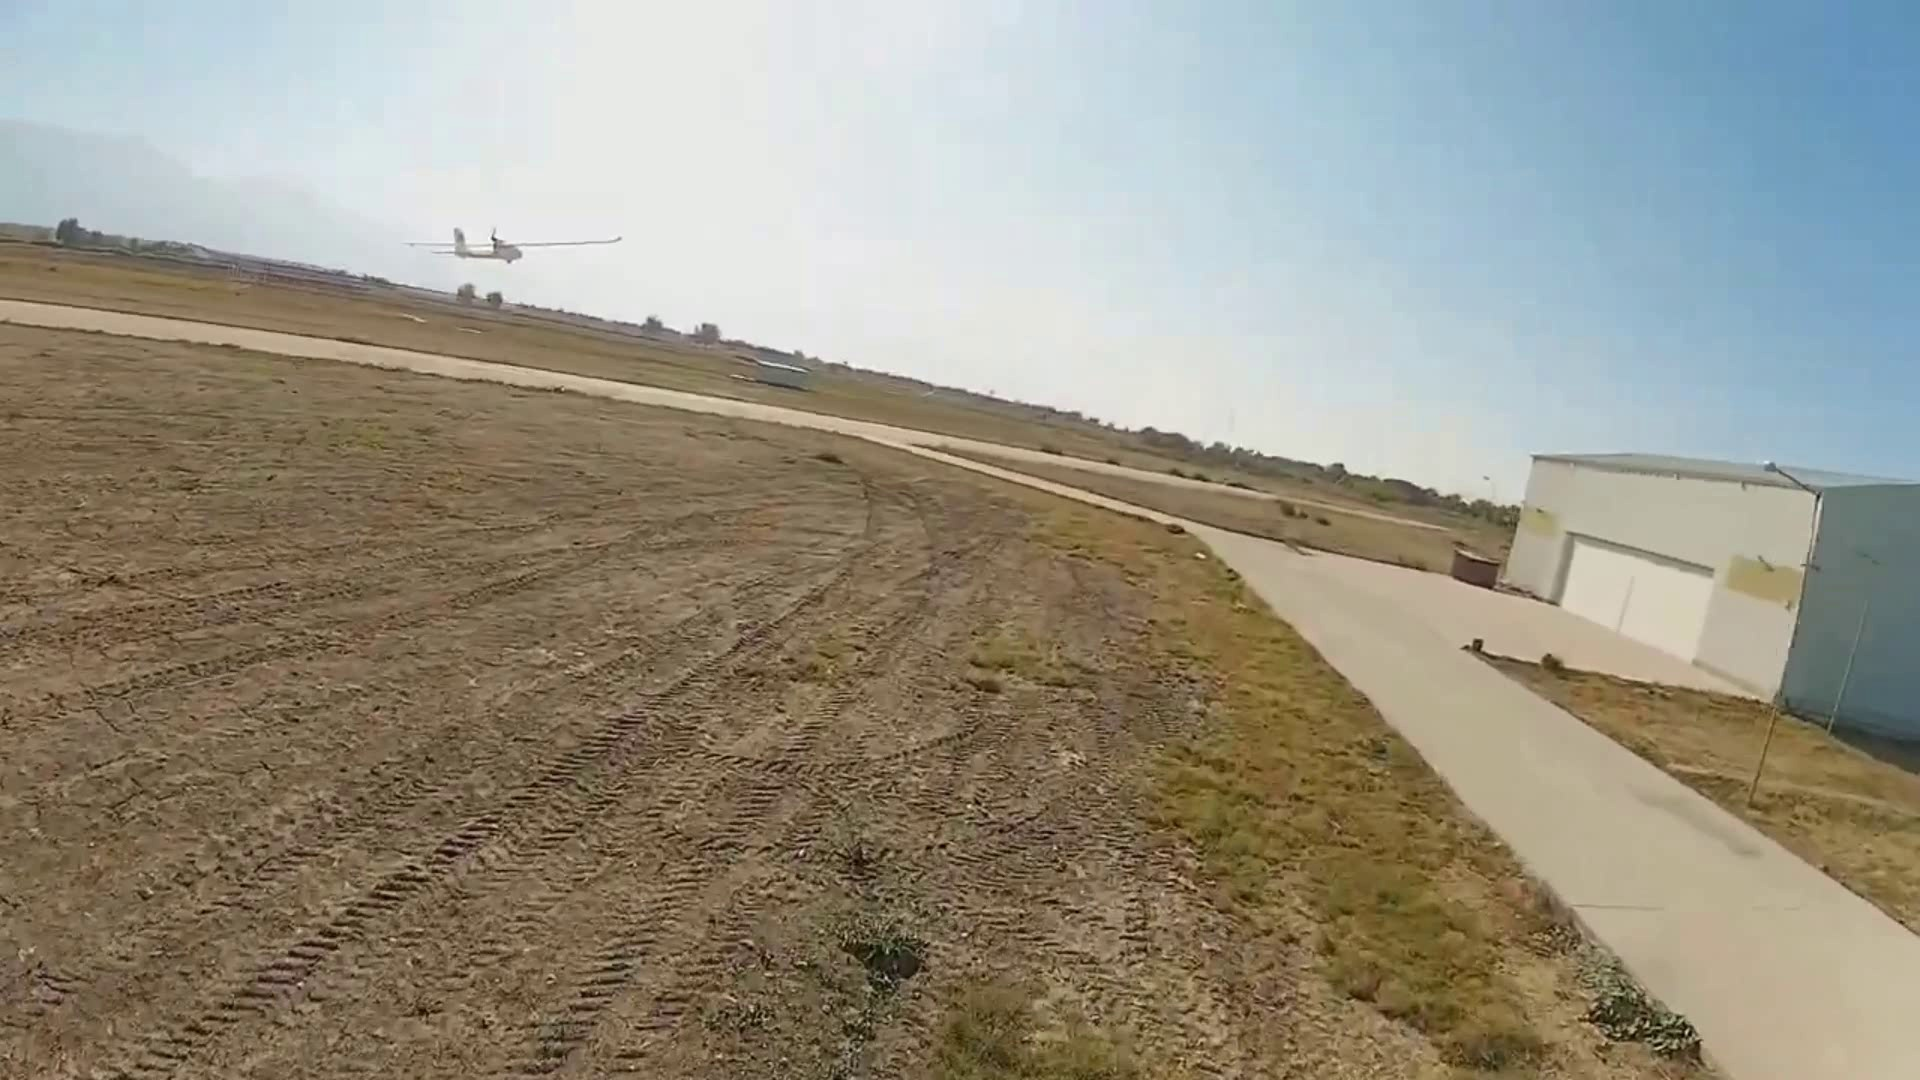airplane: (429, 218, 626, 262)
